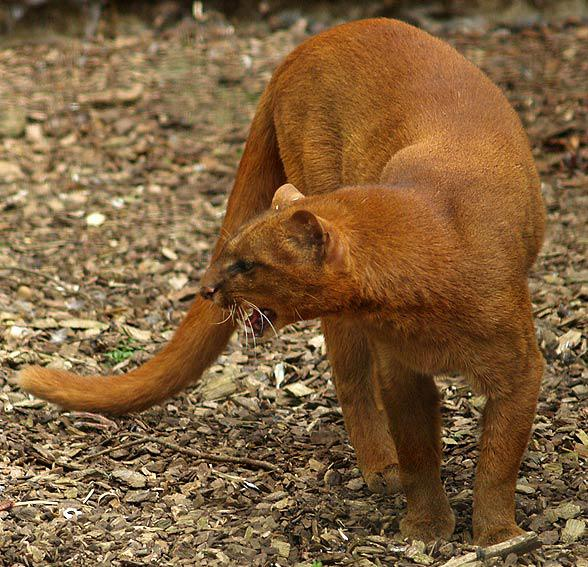Jaguarundi: (11, 14, 561, 558)
